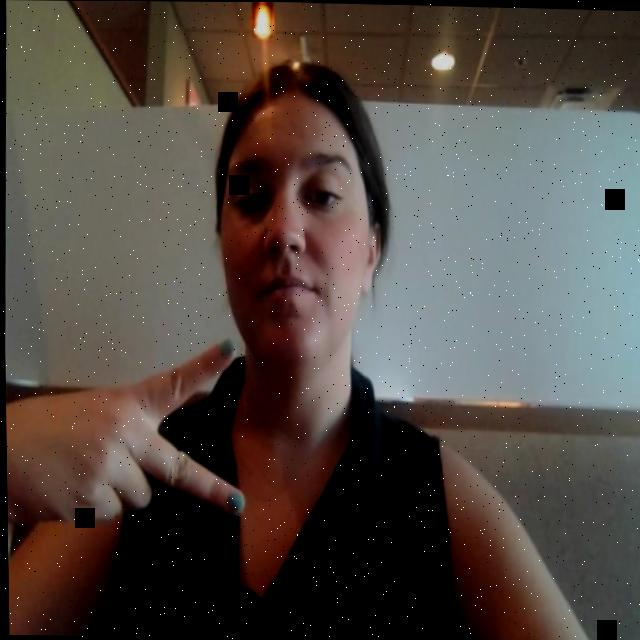Scissors: (4, 320, 266, 586)
